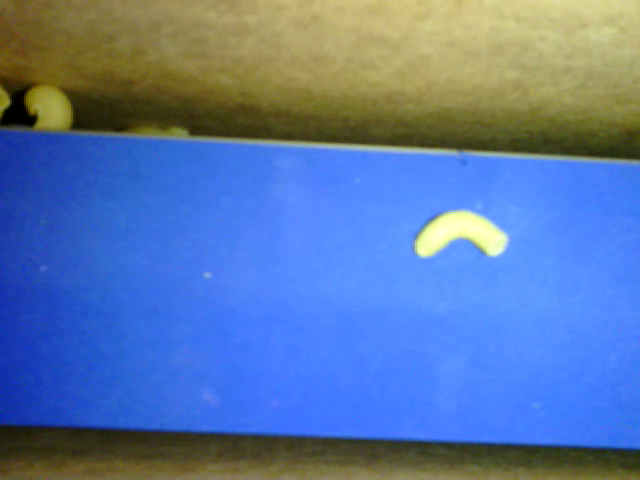elbow: (412, 208, 507, 263)
shell: (24, 81, 76, 133)
